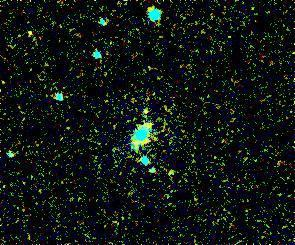star: (156, 159, 186, 189)
